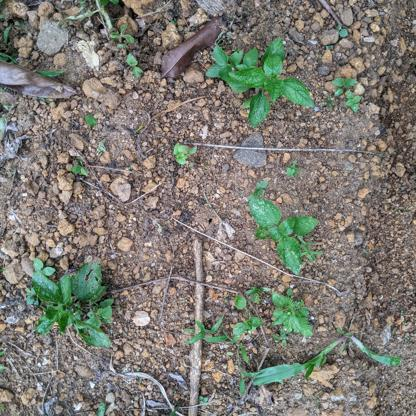weed: (189, 285, 402, 385), (208, 35, 319, 123), (26, 256, 116, 353), (246, 177, 323, 274)
